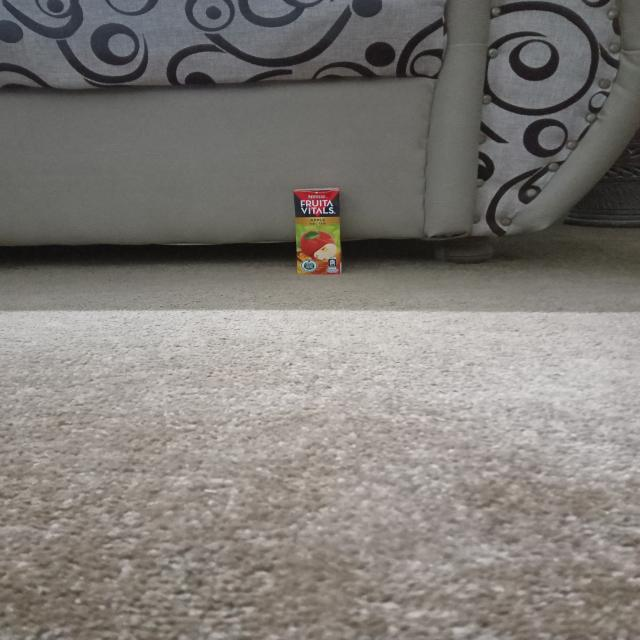Plastic: (288, 185, 352, 279)
